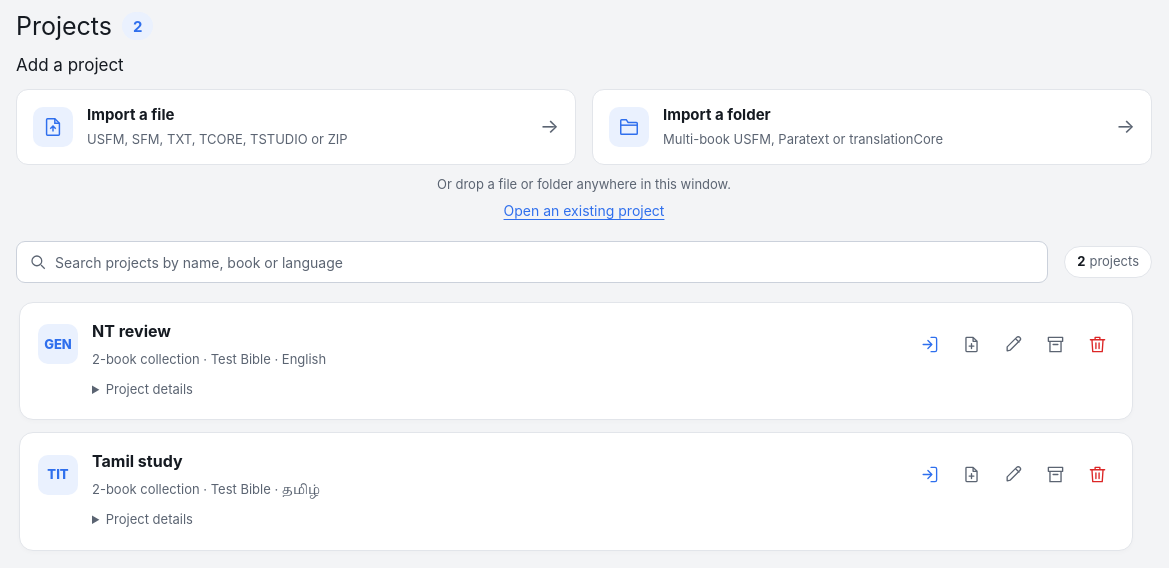
it: ImportScreen projects list (#238) › filters projects across name, book and language and restores them when cleared
Expected: the text "NT review" is shown, [92,321,171,341]
Type "  GEN english  " into the search field labelled "Search projects" at (545, 262), box [55,242,1035,282]
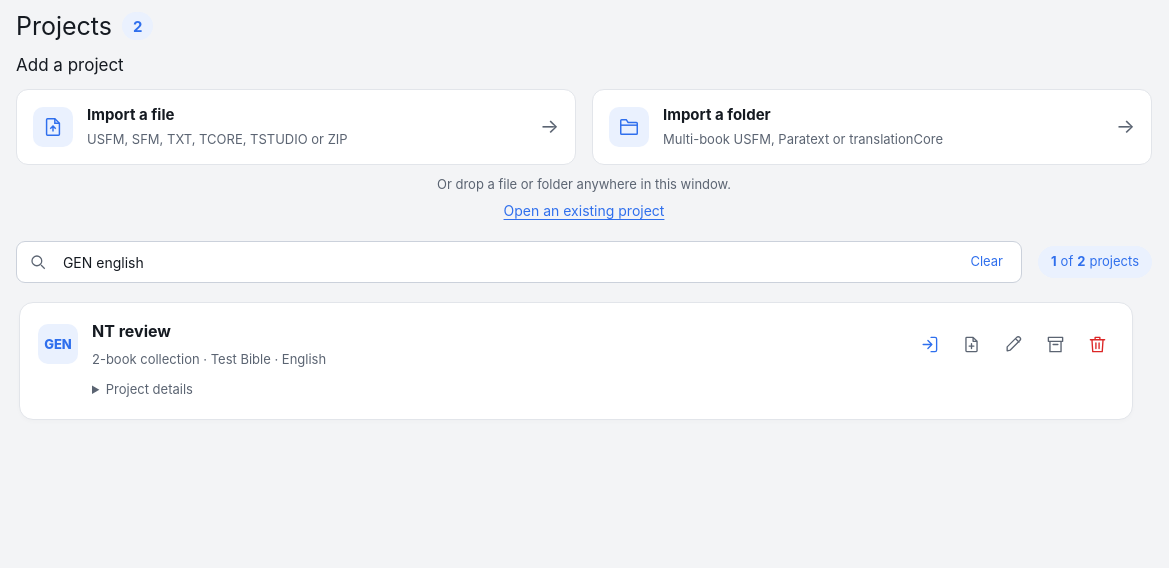
Expected: the text "NT review" is shown, [92,321,171,341]
Now the text "Tamil study" is gone
Now the message reads "1 of 2 projects", box [1038,246,1152,278]
Replace the text in the search field named "Search projects" with "தமிழ்" at (506, 262), box [55,242,956,282]
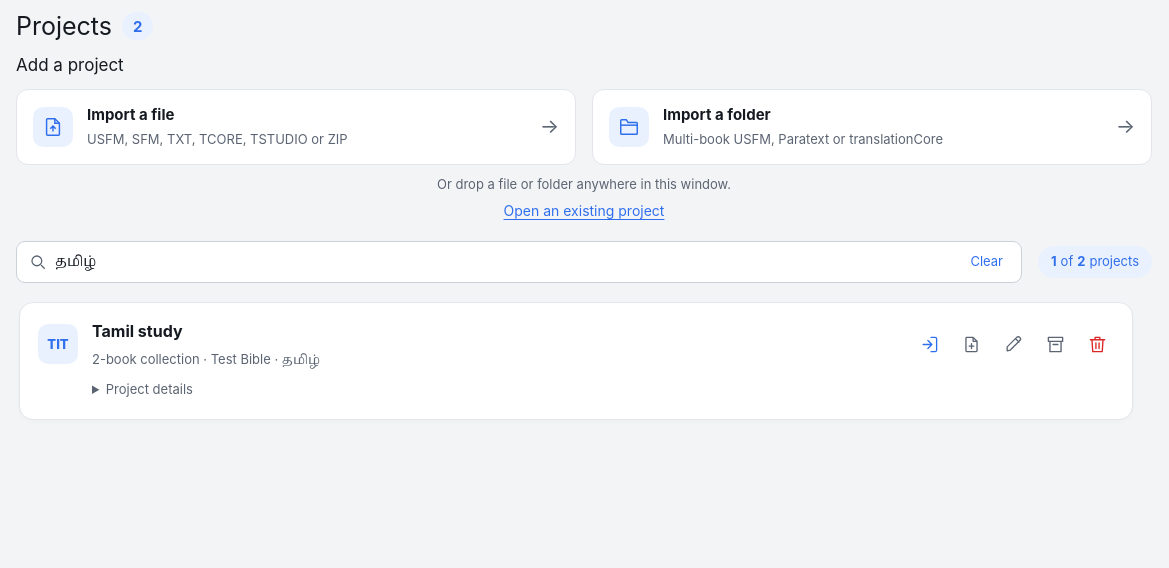
Now the text "Tamil study" is shown, box [92,321,182,341]
Now the text "NT review" is gone
Replace the text in the search field named "Search projects" with "TAMIL STUDY" at (506, 262), box [55,242,956,282]
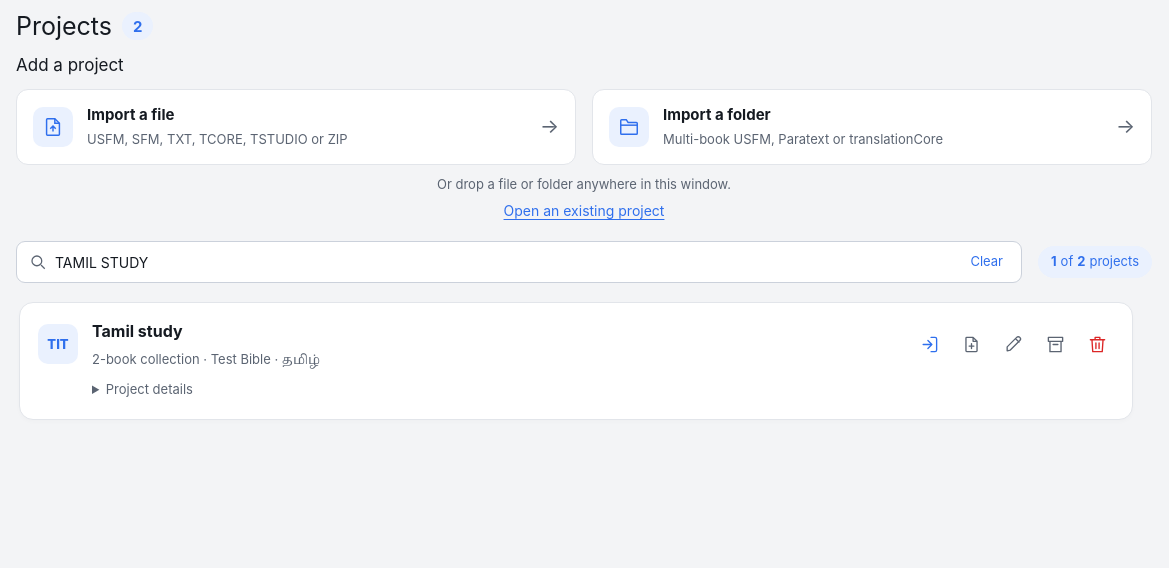
Now the text "Tamil study" is shown, box [92,321,182,341]
Replace the text in the search field named "Search projects" with "unknown project" at (506, 262), box [55,242,956,282]
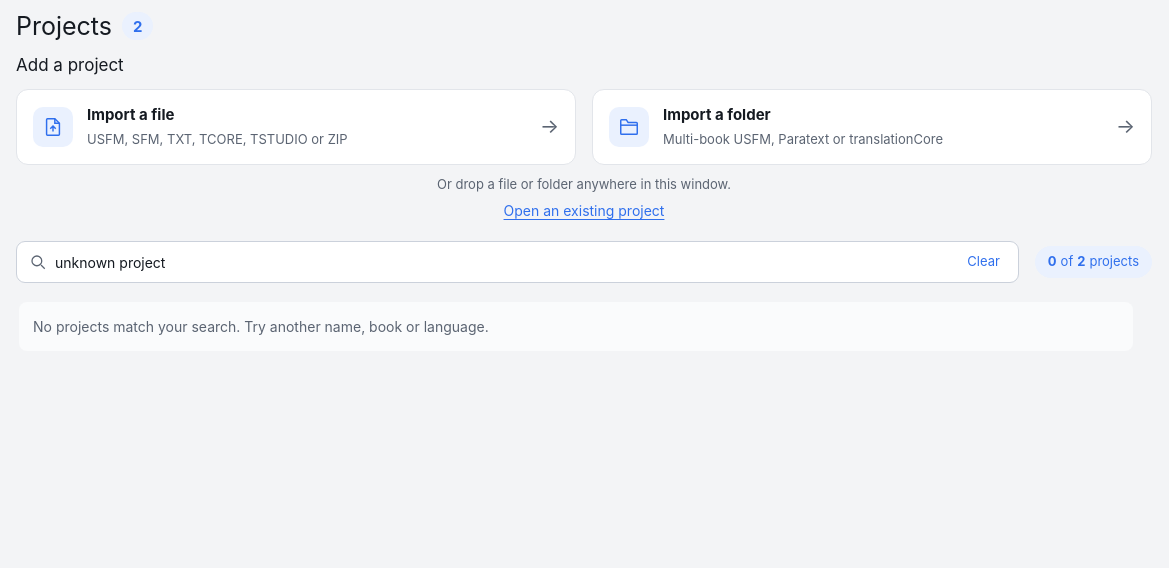
Expected: the button "Import a file USFM, SFM, TXT, TCORE, TSTUDIO or ZIP →" is shown, [16,88,576,164]
Now the text "No projects match your search" is shown, box [33,318,489,335]
Click the button with aria-label "Clear project search" at (984, 262), box [961,246,1006,278]
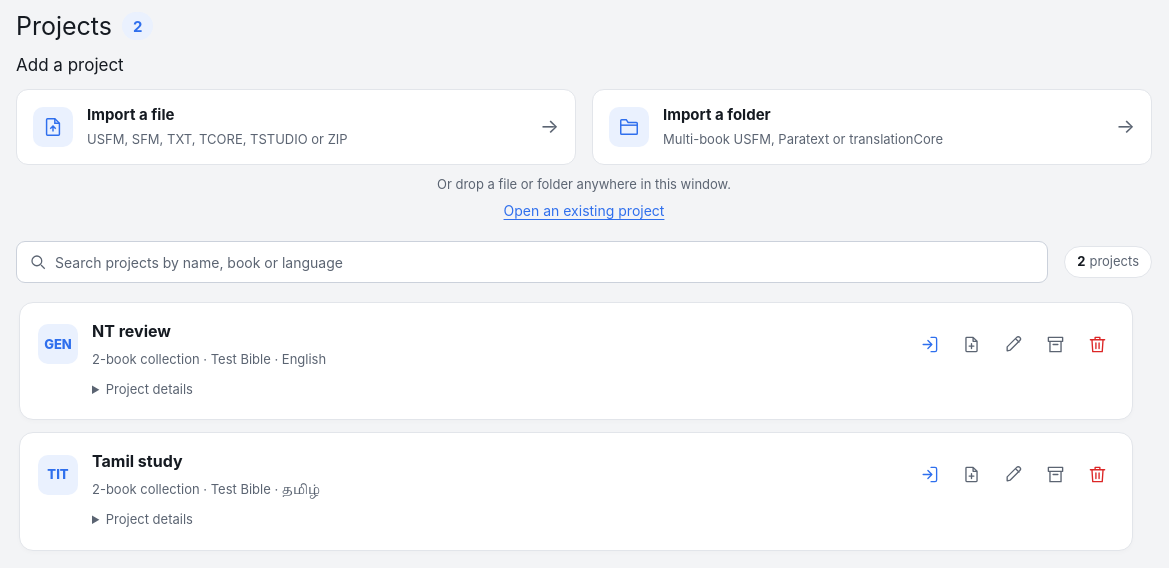
Now the search field labelled "Search projects" is empty, box [55,242,1035,282]
Now the text "NT review" is shown, box [92,321,171,341]
Now the text "Tamil study" is shown, box [92,451,182,471]
